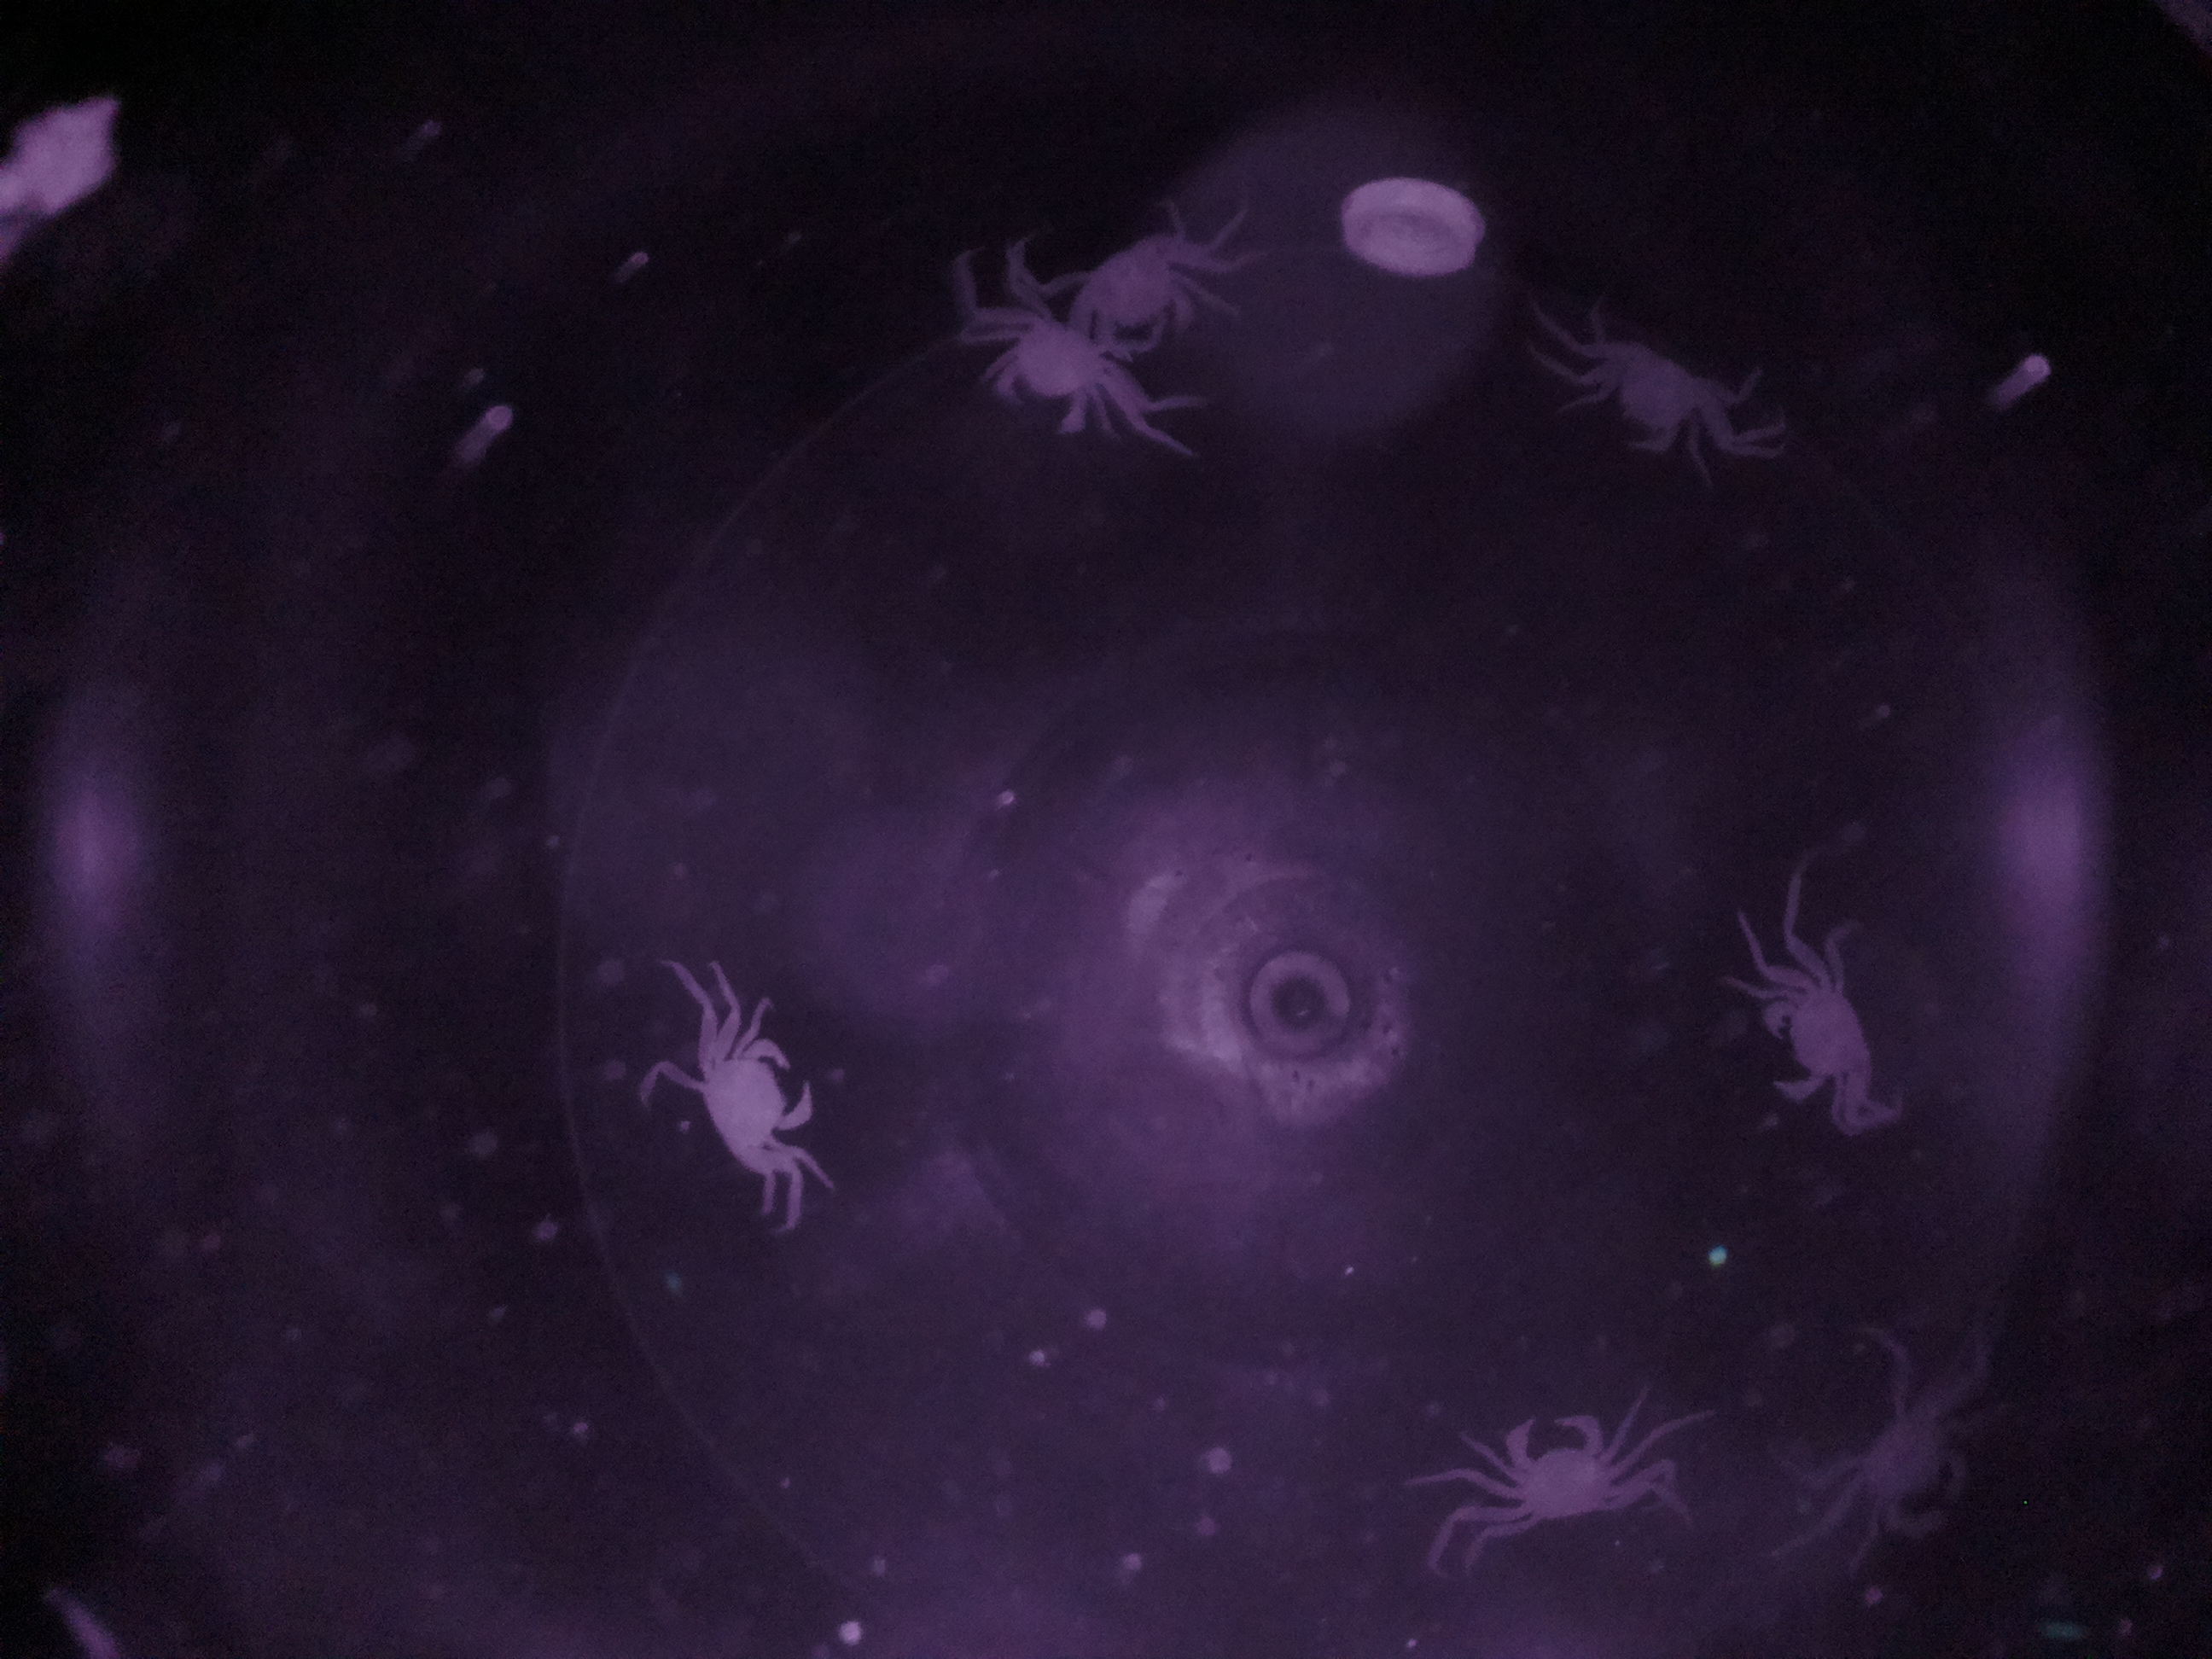Crab: (1820, 1373, 2003, 1567), (1738, 924, 1904, 1133), (672, 1011, 827, 1185), (1486, 1399, 1651, 1553), (1566, 328, 1745, 460), (986, 282, 1118, 460)
